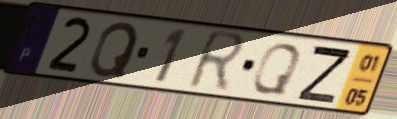1: (149, 26, 191, 85)
2: (45, 16, 93, 75)
Q: (87, 20, 142, 79), (248, 41, 304, 98)
R: (183, 27, 250, 96)
Z: (294, 42, 355, 106)
